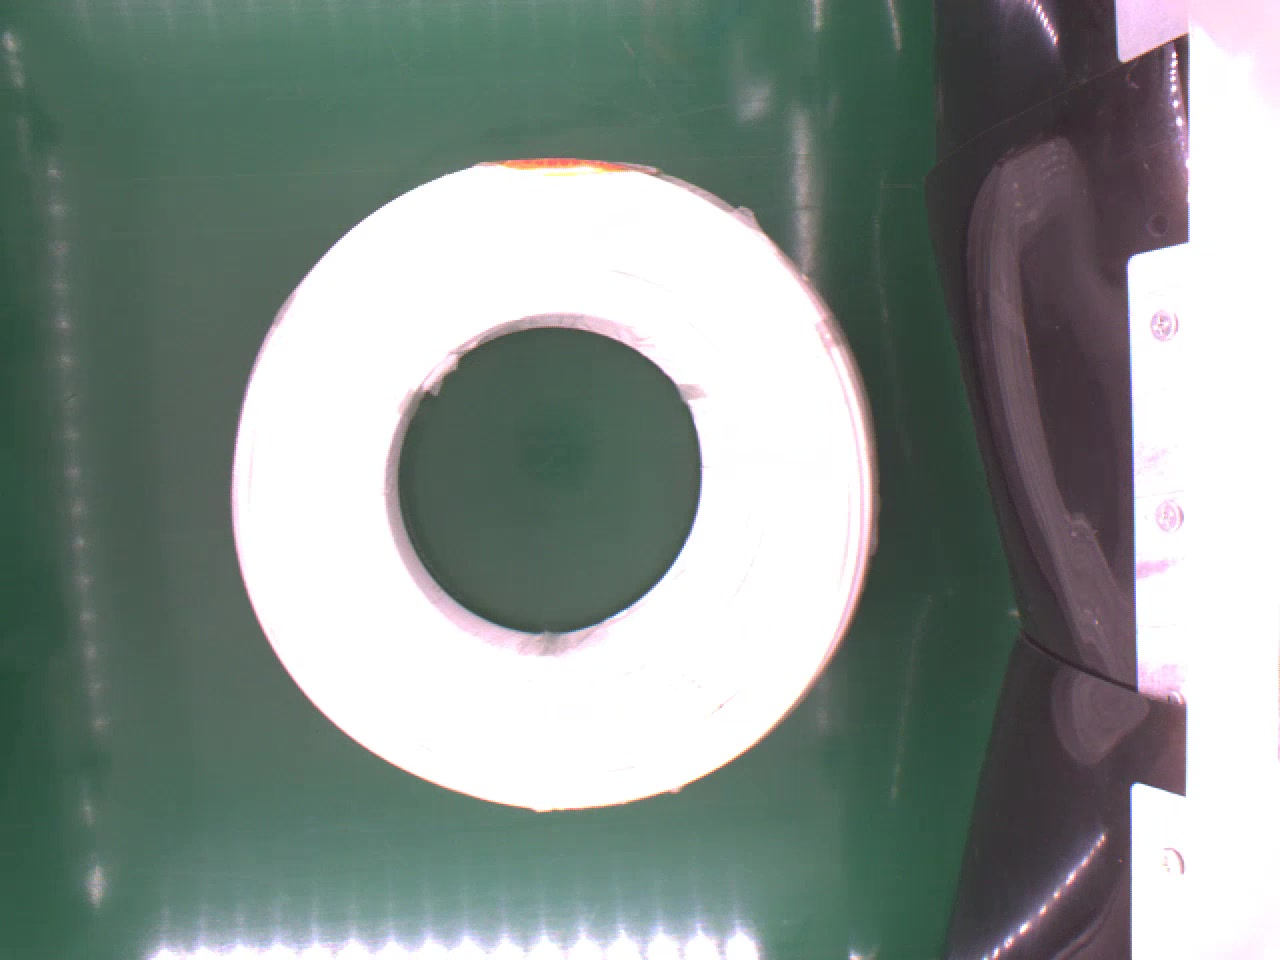white: (227, 147, 882, 806)
